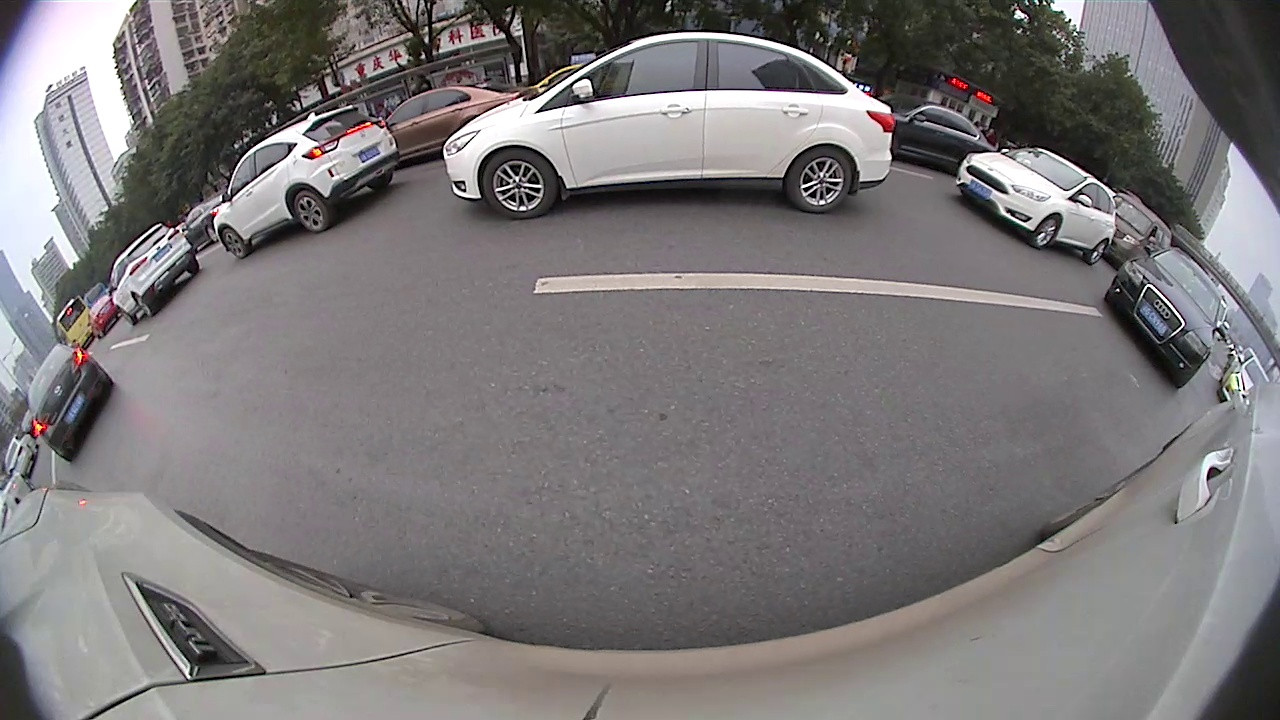car: (443, 26, 895, 219), (214, 106, 398, 260), (956, 147, 1117, 266), (1103, 249, 1226, 389), (386, 85, 522, 167), (25, 343, 117, 460), (110, 224, 203, 323), (883, 102, 989, 176), (1103, 193, 1173, 266)
front: (481, 148, 556, 219), (1029, 211, 1064, 250), (220, 227, 251, 260)
rear: (785, 144, 852, 214), (291, 188, 333, 234), (130, 291, 156, 320), (1085, 237, 1109, 266)
